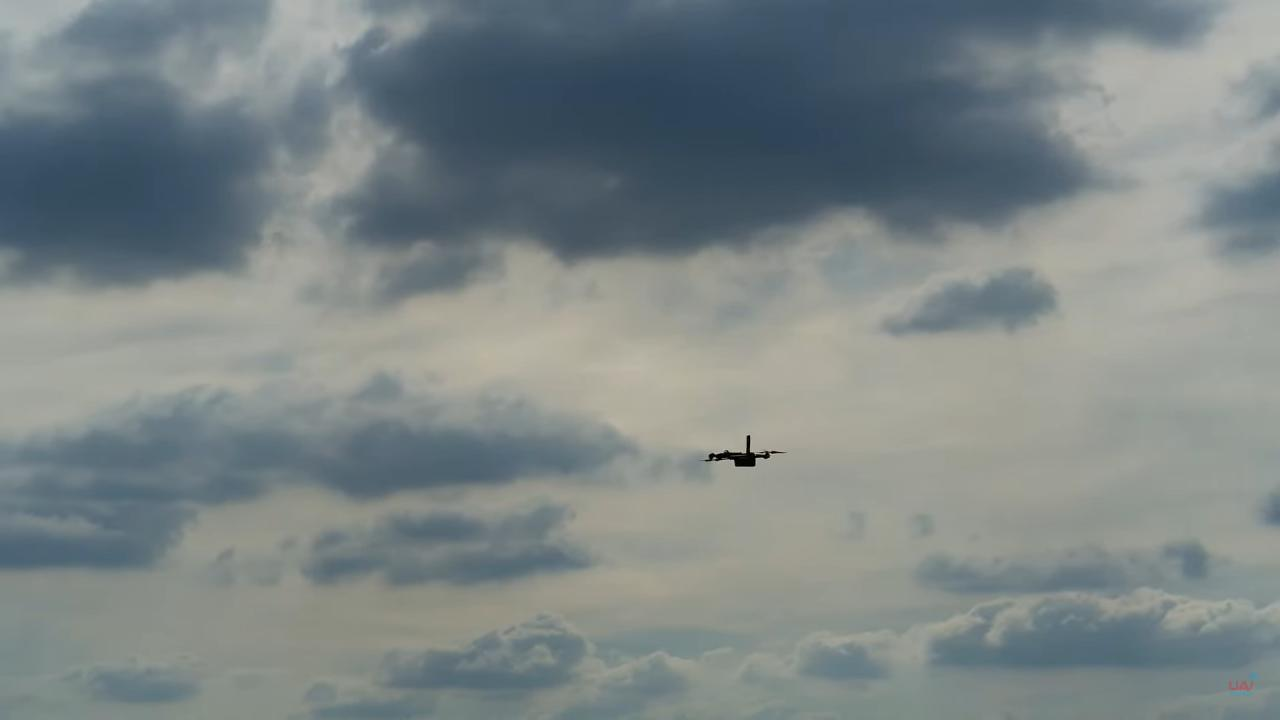Drone: (699, 428, 793, 478)
